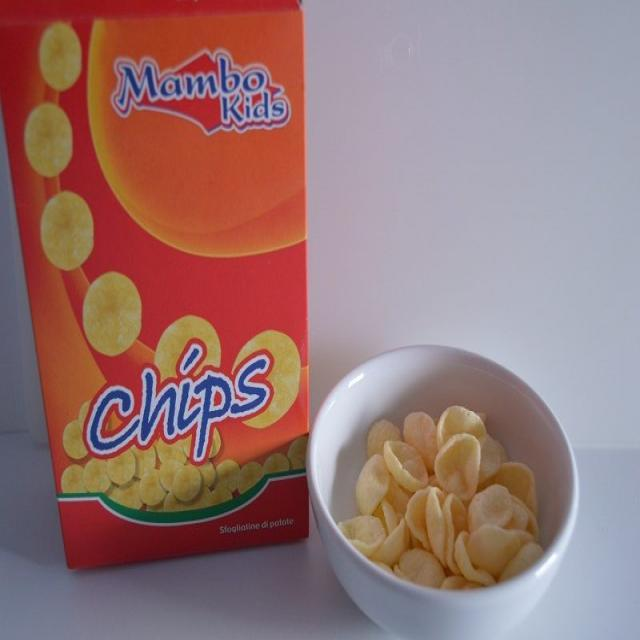Chips: (1, 2, 313, 578)
Chips packaged: (345, 410, 535, 590)
